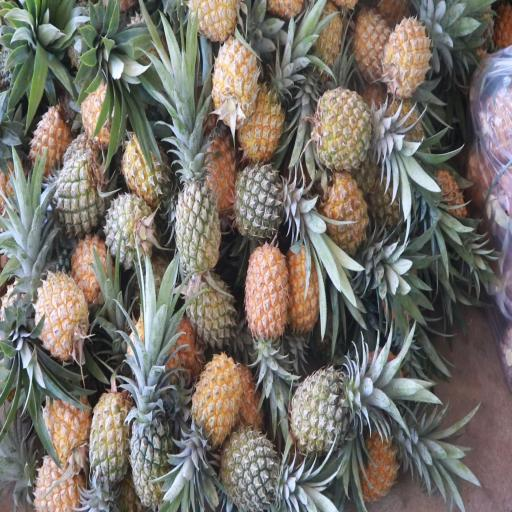------------------------------: (174, 152, 222, 274), (219, 428, 287, 512), (313, 90, 384, 170), (128, 407, 173, 508), (117, 131, 173, 206), (182, 273, 232, 354), (349, 4, 395, 84), (66, 238, 112, 311), (21, 115, 66, 180)
Pineapple - v8 v1: (32, 276, 86, 364), (191, 358, 240, 452), (242, 248, 287, 349), (84, 390, 130, 488), (316, 178, 369, 262), (211, 32, 258, 124), (382, 10, 430, 98), (37, 388, 86, 472), (236, 79, 284, 164), (285, 246, 324, 350), (356, 426, 402, 498)
